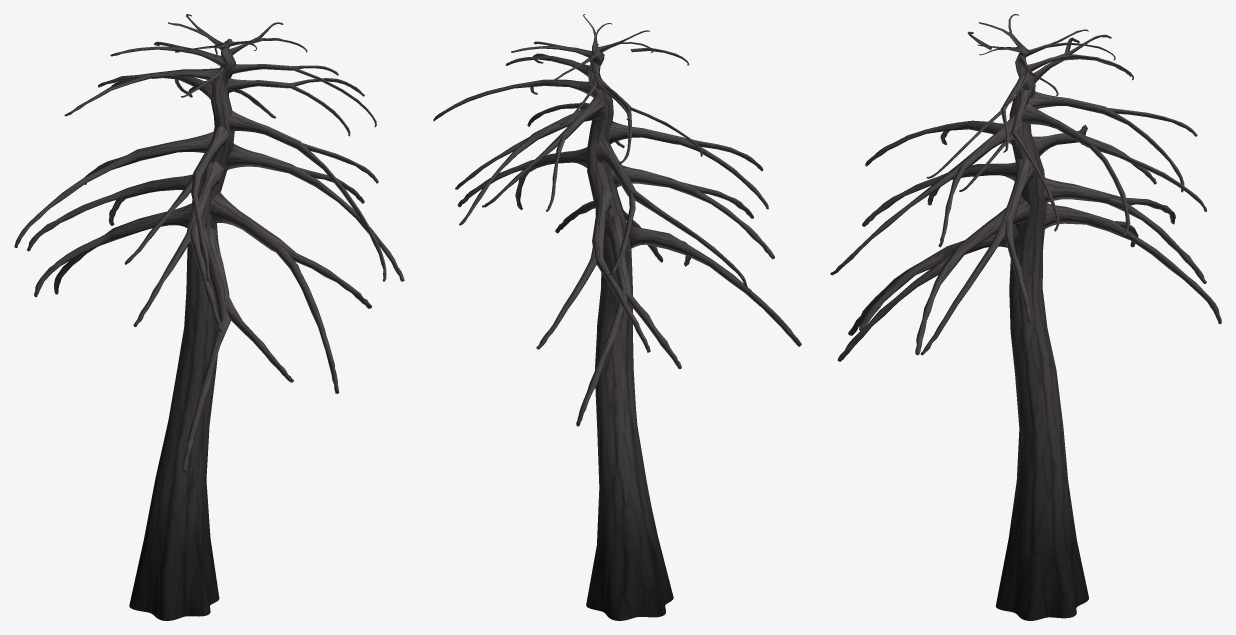
Rendered from deadtree_4.glb.
3 views of the same model, side by side, from view 1: azimuth 30°, elevation 25°; view 2: azimuth 150°, elevation 25°; view 3: azimuth 270°, elevation 25° (orthographic). The views are drawn at different scales.
Visible parts, largest first — view 1: DeadTree_4; view 2: DeadTree_4; view 3: DeadTree_4.
Boxes of the visible parts, box(x1,y1,x2,y2) form: DeadTree_4: box(14, 14, 404, 620); DeadTree_4: box(433, 14, 801, 620); DeadTree_4: box(830, 14, 1221, 620).
Bounding box in the file's own units: 7.96 × 12.77 × 7.73.
Materials: 1 (1 with a texture image).
